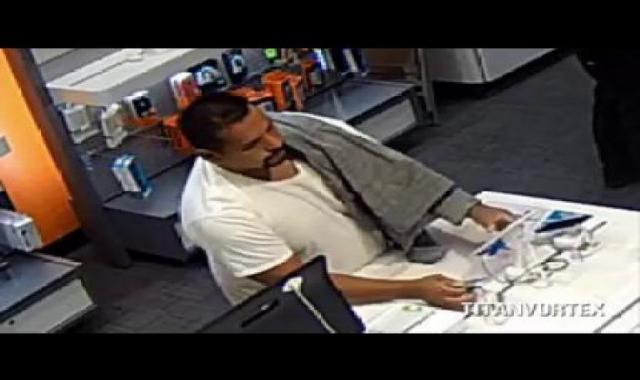no_hairnet: (179, 85, 254, 156)
